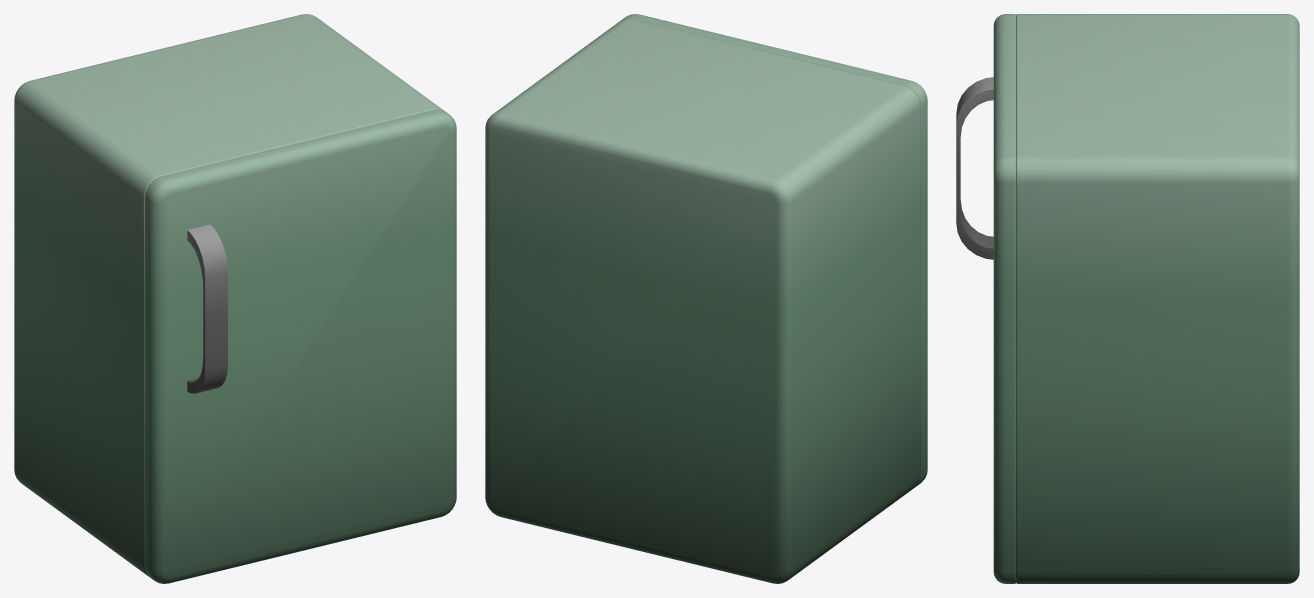
File: fridge.fbx
3 views of the same model, side by side, from view 1: azimuth 30°, elevation 25°; view 2: azimuth 150°, elevation 25°; view 3: azimuth 270°, elevation 25° (orthographic). The views are drawn at different scales.
Parts seen in each view (by area): view 1: Fridge Door, Mini Fridge; view 2: Mini Fridge, Fridge Door; view 3: Mini Fridge, Fridge Door.
Part boxes in pixels (x1=…): Fridge Door: x1=145, y1=109, x2=456, y2=583; Mini Fridge: x1=14, y1=14, x2=444, y2=576; Mini Fridge: x1=485, y1=18, x2=920, y2=583; Fridge Door: x1=621, y1=14, x2=927, y2=485; Mini Fridge: x1=1016, y1=14, x2=1299, y2=583; Fridge Door: x1=956, y1=14, x2=1015, y2=583.
Size of the model in its own units: 91.4 by 115 by 84.15.
